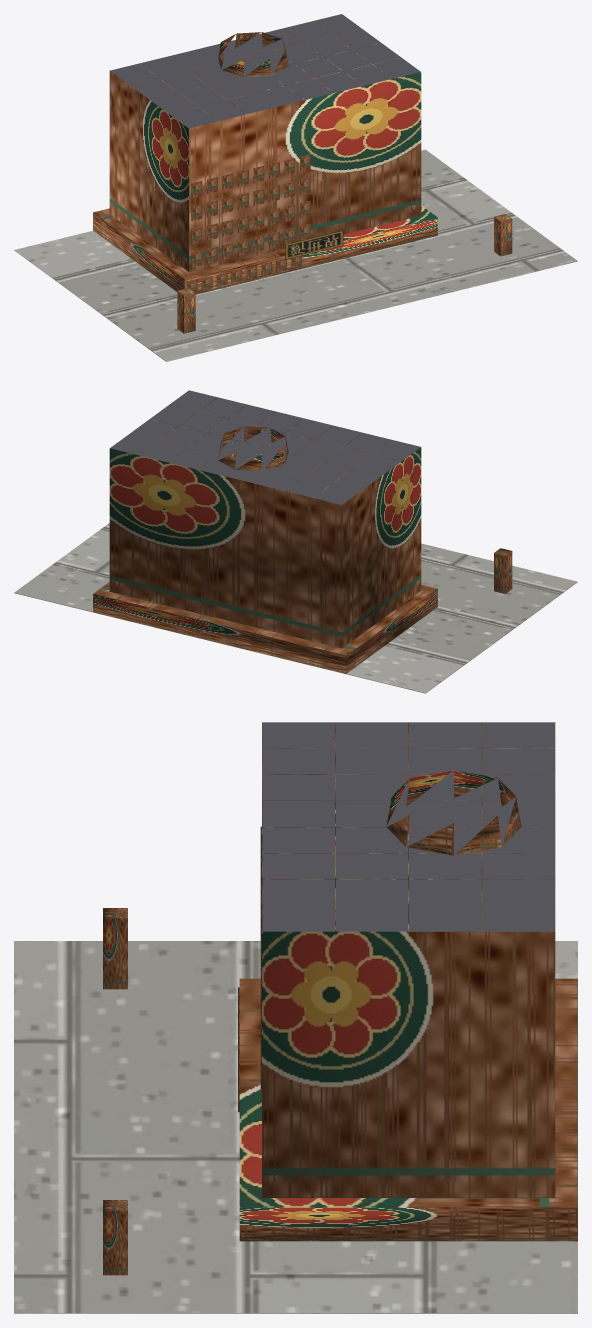
3 renders of one model, top to bottom at view 1: azimuth 30°, elevation 25°; view 2: azimuth 150°, elevation 25°; view 3: azimuth 270°, elevation 25°, orthographic. The views are drawn at different scales.
Visible parts, largest first — view 1: 11140_02_04530_016_02_L2__body, 11140_02_04530_016_01_L2__base, 11140_02_04530_016_03_L2__roof, 11140_02_04530_016_05_L2__openings, 11140_02_04530_016_06_L2__green, 11140_02_04530_016_04_L2__sign; view 2: 11140_02_04530_016_02_L2__body, 11140_02_04530_016_01_L2__base, 11140_02_04530_016_03_L2__roof, 11140_02_04530_016_06_L2__green; view 3: 11140_02_04530_016_02_L2__body, 11140_02_04530_016_01_L2__base, 11140_02_04530_016_03_L2__roof, 11140_02_04530_016_06_L2__green, 11140_02_04530_016_05_L2__openings.
Boxes of the visible parts, left/top/right/bottom form: 11140_02_04530_016_02_L2__body: left=93, top=21, right=437, bottom=294; 11140_02_04530_016_01_L2__base: left=14, top=149, right=577, bottom=361; 11140_02_04530_016_03_L2__roof: left=110, top=14, right=420, bottom=128; 11140_02_04530_016_05_L2__openings: left=186, top=154, right=310, bottom=292; 11140_02_04530_016_06_L2__green: left=177, top=214, right=512, bottom=333; 11140_02_04530_016_04_L2__sign: left=285, top=230, right=343, bottom=259; 11140_02_04530_016_02_L2__body: left=93, top=397, right=437, bottom=673; 11140_02_04530_016_01_L2__base: left=14, top=523, right=577, bottom=693; 11140_02_04530_016_03_L2__roof: left=110, top=390, right=420, bottom=504; 11140_02_04530_016_06_L2__green: left=494, top=548, right=512, bottom=593; 11140_02_04530_016_02_L2__body: left=239, top=722, right=577, bottom=1241; 11140_02_04530_016_01_L2__base: left=14, top=941, right=577, bottom=1313; 11140_02_04530_016_03_L2__roof: left=262, top=722, right=554, bottom=931; 11140_02_04530_016_06_L2__green: left=103, top=908, right=127, bottom=1275; 11140_02_04530_016_05_L2__openings: left=238, top=826, right=261, bottom=1112.
Bounding box in the file's own units: 78 × 32.4 × 50.
Materials: 5 (5 with a texture image).
